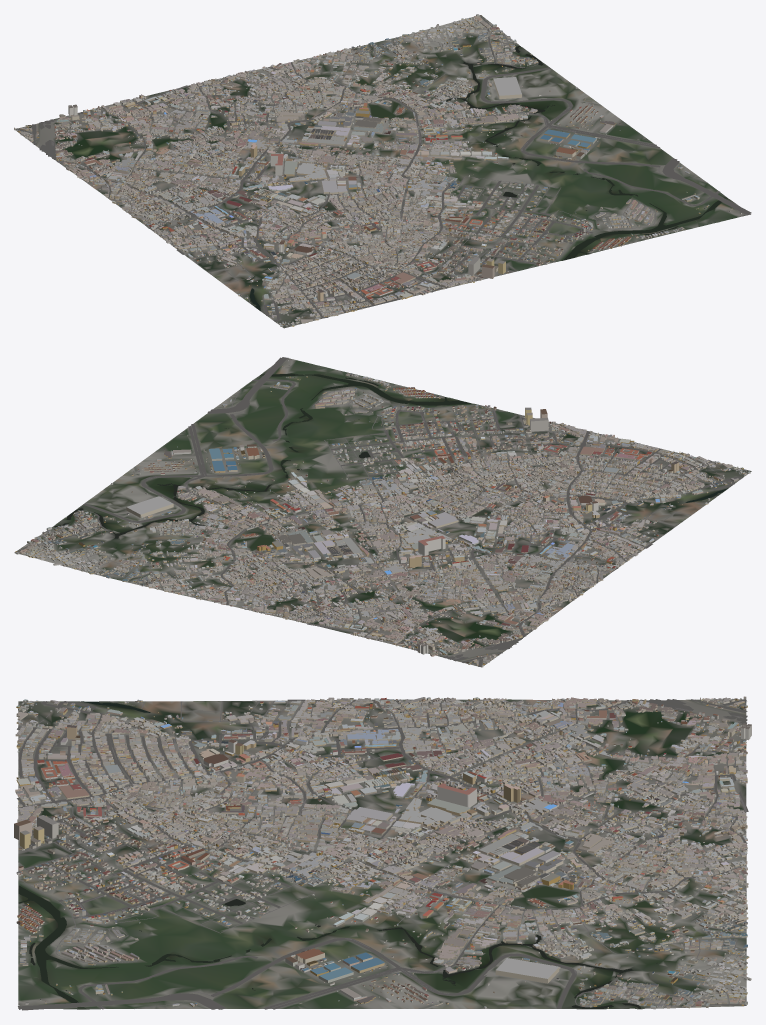
3 views of the same model, one above another, from view 1: azimuth 30°, elevation 25°; view 2: azimuth 150°, elevation 25°; view 3: azimuth 270°, elevation 25° (orthographic). The views are drawn at different scales.
Parts seen in each view (by area): view 1: buildings, ground, roads, water; view 2: buildings, ground, roads, water; view 3: buildings, ground, roads, water.
Part boxes in pixels (box(x1,y1,x2,y2)): buildings: box(14, 14, 746, 326); ground: box(15, 16, 750, 328); roads: box(15, 15, 751, 321); water: box(249, 45, 727, 310); buildings: box(15, 357, 750, 667); ground: box(14, 358, 751, 666); roads: box(14, 357, 742, 666); water: box(53, 373, 727, 547); buildings: box(14, 696, 751, 1009); ground: box(18, 699, 746, 1009); roads: box(17, 699, 748, 1010); water: box(18, 701, 657, 1009).
Size of the model in its own units: 2825 by 73.47 by 2839.
